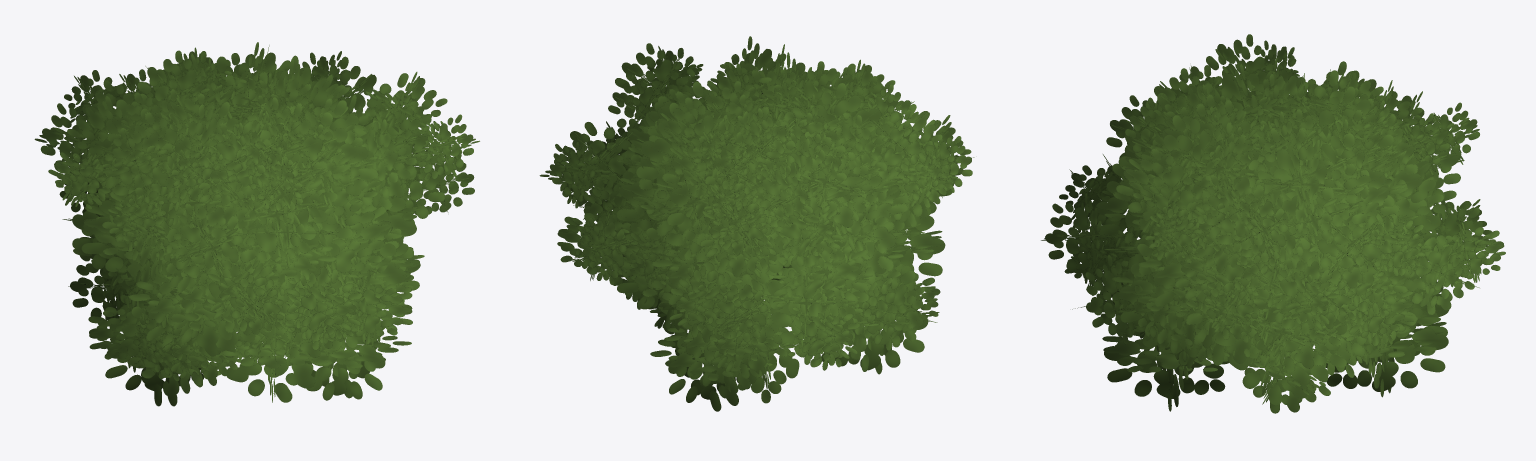
File: Bush.glb
The picture shows the model from 3 angles, left to right: view 1: azimuth 30°, elevation 25°; view 2: azimuth 150°, elevation 25°; view 3: azimuth 270°, elevation 25°; orthographic projection. The views are drawn at different scales.
Parts seen in each view (by area): view 1: Bush_Common; view 2: Bush_Common; view 3: Bush_Common.
Boxes of the visible parts, x1,y1,x2,y2 form: Bush_Common: (34, 42, 479, 406); Bush_Common: (539, 36, 974, 411); Bush_Common: (1041, 34, 1505, 413).
Bounding box in the file's own units: 1.91 × 1.58 × 1.97.
Materials: 1 (1 with a texture image).
